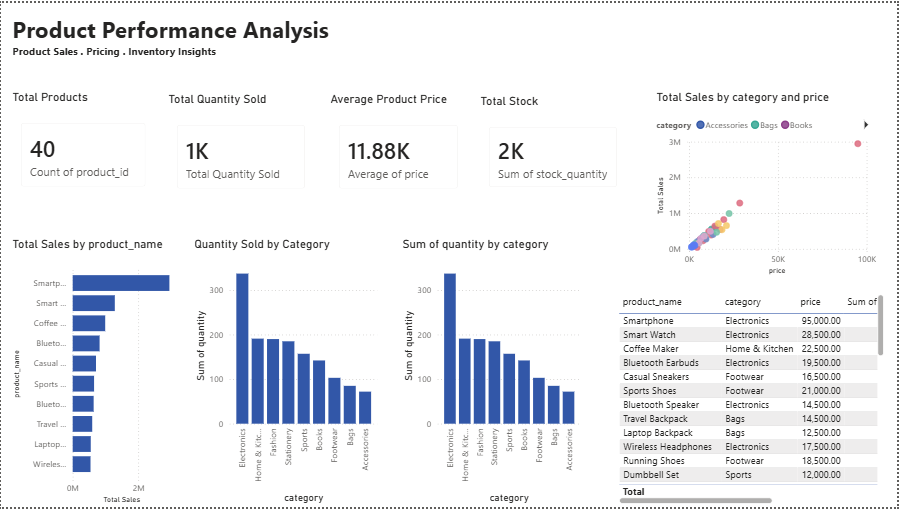

The page's visual inventory and layout, read from the dashboard file:
{"tool":"powerbi","page":{"name":"Performance analysis","canvas":[1280,720],"ordinal":2},"visuals":[{"type":"cardVisual","title":"Total Products","fields":{"Data":["Count(ecommerce_project products.product_id)"]},"box":[11.4,124.3,212.9,155.7],"z":0},{"type":"cardVisual","title":"Average Product Price","fields":{"Data":["Avg(ecommerce_project products.price)"]},"box":[465.7,127.1,204.3,155.7],"z":1000},{"type":"cardVisual","title":"Total Stock","fields":{"Data":["Sum(ecommerce_project products.stock_quantity)"]},"box":[680,130,217.1,150],"z":2000},{"type":"cardVisual","title":"Total Quantity Sold","fields":{"Data":["ecommerce_project order_items.Total Quantity Sold"]},"box":[234.3,127.1,217.1,155.7],"z":3000},{"type":"clusteredBarChart","fields":{"Category":["ecommerce_project products.product_name"],"Y":["ecommerce_project order_items.Total Sales"]},"box":[11.4,334.3,245.7,385.7],"z":4000},{"type":"clusteredColumnChart","title":"Quantity Sold  by Category","fields":{"Category":["ecommerce_project products.category"],"Y":["Sum(ecommerce_project order_items.quantity)"]},"box":[271.4,334.3,271.4,385.7],"z":5000},{"type":"clusteredColumnChart","fields":{"Category":["ecommerce_project products.category"],"Y":["Sum(ecommerce_project order_items.quantity)"]},"box":[568.6,334.3,264.3,385.7],"z":6000},{"type":"scatterChart","fields":{"X":["ecommerce_project products.price"],"Y":["ecommerce_project order_items.Total Sales"],"Series":["ecommerce_project products.category"]},"box":[931.4,124.3,324.3,268.6],"z":6001},{"type":"tableEx","fields":{"Values":["ecommerce_project products.product_name","ecommerce_project products.category","ecommerce_project products.price","Sum(ecommerce_project order_items.quantity)","ecommerce_project products.stock_quantity","ecommerce_project order_items.Total Sales"]},"box":[877.1,411.4,388.6,308.6],"z":6002},{"type":"textbox","box":[11.4,10,1211.4,85.7],"z":6003}]}

Visuals, with their boxes in screenshot pixels (x1, y1, x2, y2), scaled from the page's 1280x720 canvas onto the 900x510 screenshot:
"Total Products" cardVisual: select_region(8, 88, 158, 198)
"Average Product Price" cardVisual: select_region(327, 90, 471, 200)
"Total Stock" cardVisual: select_region(478, 92, 631, 198)
"Total Quantity Sold" cardVisual: select_region(165, 90, 317, 200)
clusteredBarChart - ecommerce_project products.product_name x ecommerce_project order_items.Total Sales: select_region(8, 237, 181, 509)
"Quantity Sold  by Category" clusteredColumnChart: select_region(191, 237, 382, 509)
clusteredColumnChart - ecommerce_project products.category x Sum(ecommerce_project order_items.quantity): select_region(400, 237, 586, 509)
scatterChart - ecommerce_project products.price x ecommerce_project order_items.Total Sales: select_region(655, 88, 883, 278)
tableEx - ecommerce_project products.product_name x ecommerce_project products.category: select_region(617, 291, 890, 509)
textbox: select_region(8, 7, 860, 68)
